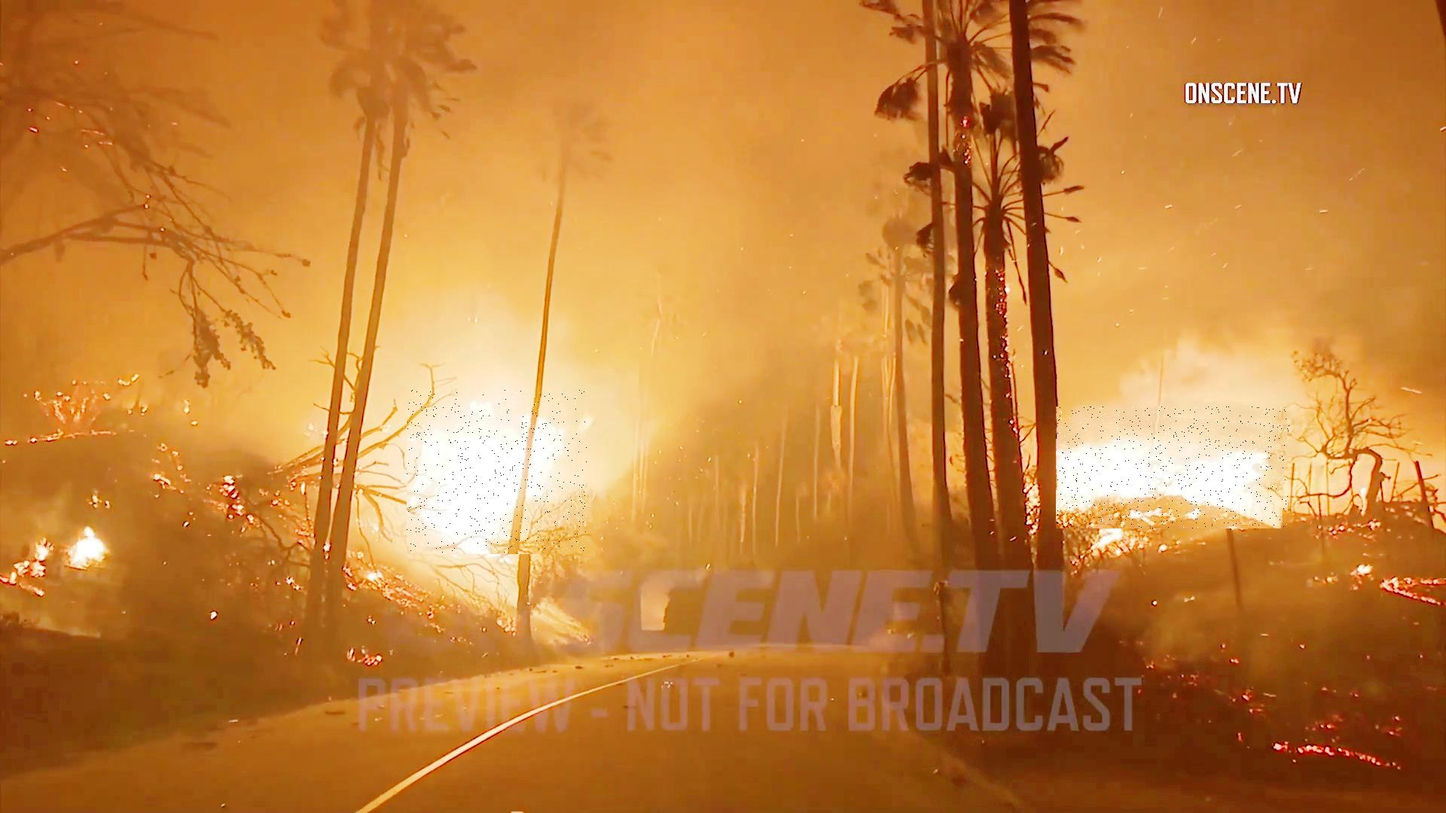fire: (407, 390, 587, 554), (1057, 407, 1290, 529)
